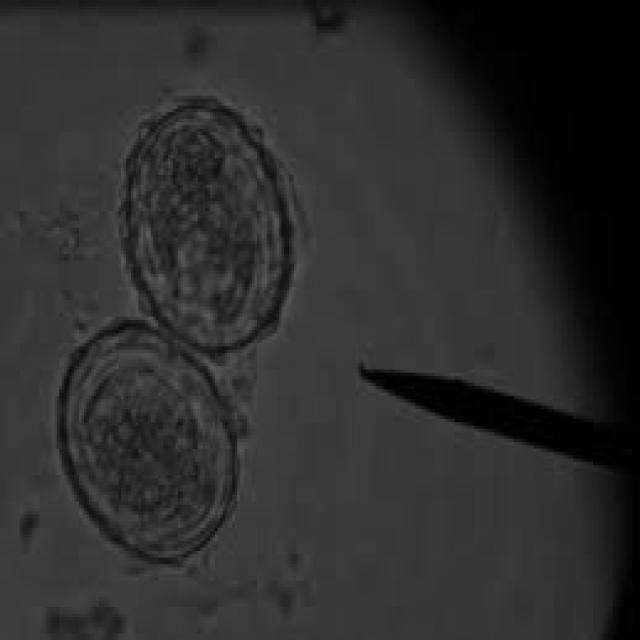Ascaris Lumbricoides: (106, 91, 302, 358), (47, 310, 240, 571)
